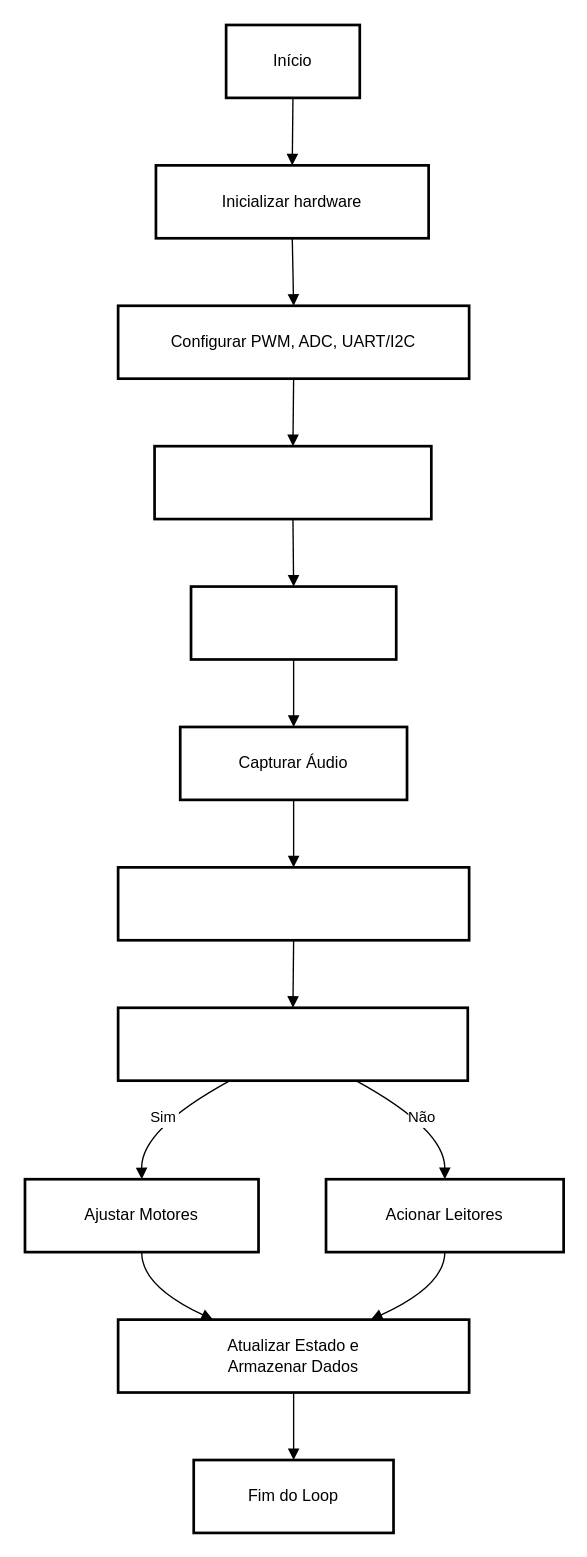
This 587x1557 diagram has some shape labels left out. Here are the shapes that lost their labels. From the top down, the centre of each, then its label:
At [292,482]: "Loop Principal Inicia".
At [293,622]: "Ler Joysticks".
At [293,903]: "Processar Voz (Reconhecimento)".
At [292,1043]: "Verificar Se Letra Correta?".
